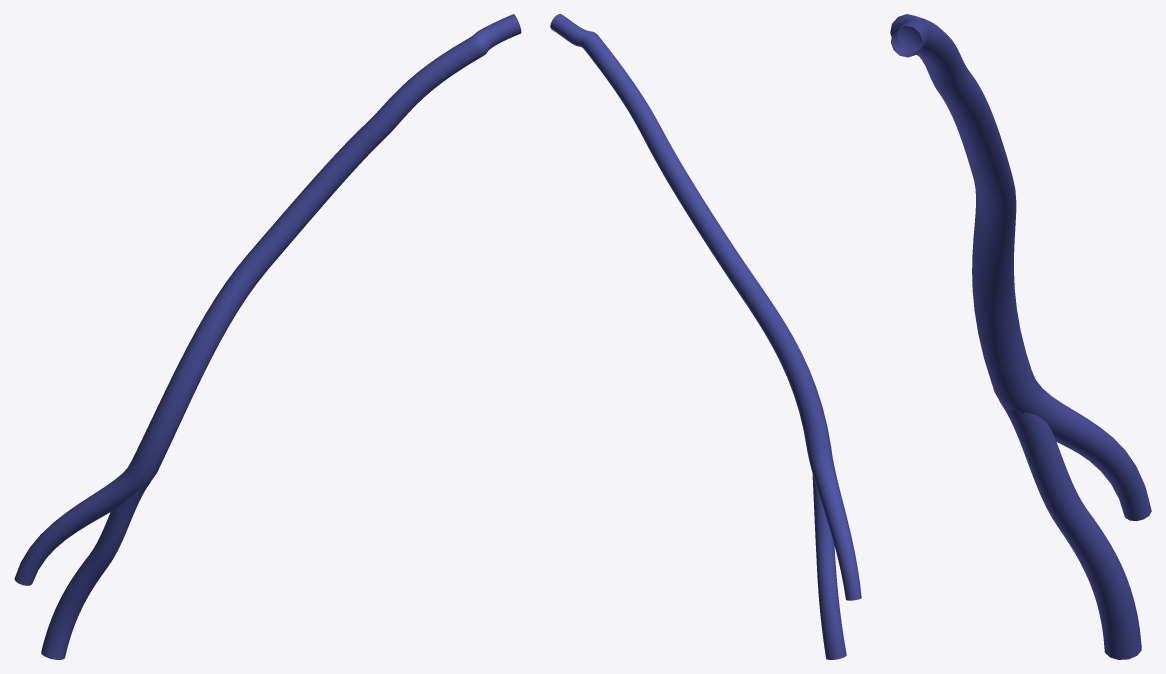
Rendered from axillary-package.glb.
3 views of the same model, side by side, from view 1: azimuth 30°, elevation 25°; view 2: azimuth 150°, elevation 25°; view 3: azimuth 270°, elevation 25° (orthographic). The views are drawn at different scales.
Visible parts, largest first — view 1: VMRA_BOUNDARY_RIGHT_AXILLARY_VEIN_01; view 2: VMRA_BOUNDARY_RIGHT_AXILLARY_VEIN_01; view 3: VMRA_BOUNDARY_RIGHT_AXILLARY_VEIN_01.
Part boxes in pixels (box(x1,y1,x2,y2)): VMRA_BOUNDARY_RIGHT_AXILLARY_VEIN_01: box(14, 14, 521, 659); VMRA_BOUNDARY_RIGHT_AXILLARY_VEIN_01: box(550, 14, 861, 659); VMRA_BOUNDARY_RIGHT_AXILLARY_VEIN_01: box(890, 14, 1151, 659).
Size of the model in its own units: 0.0982 by 0.1307 by 0.0337.
